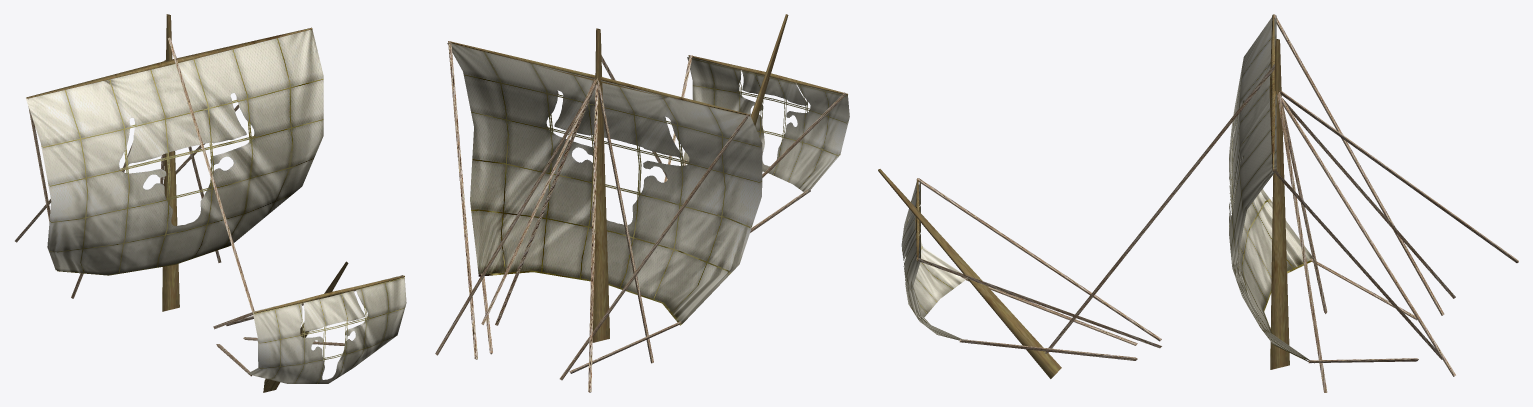
The model's file is iber_merch_sail.dae.
The picture shows the model from 3 angles, left to right: view 1: azimuth 30°, elevation 25°; view 2: azimuth 150°, elevation 25°; view 3: azimuth 270°, elevation 25°; orthographic projection. The views are drawn at different scales.
Parts seen in each view (by area): view 1: Circle; view 2: Circle; view 3: Circle.
Boxes of the visible parts, bbox=[...] form: Circle: bbox=[15, 14, 406, 392]; Circle: bbox=[435, 14, 849, 392]; Circle: bbox=[878, 14, 1518, 392].
Size of the model in its own units: 14.23 by 24.86 by 14.39.
